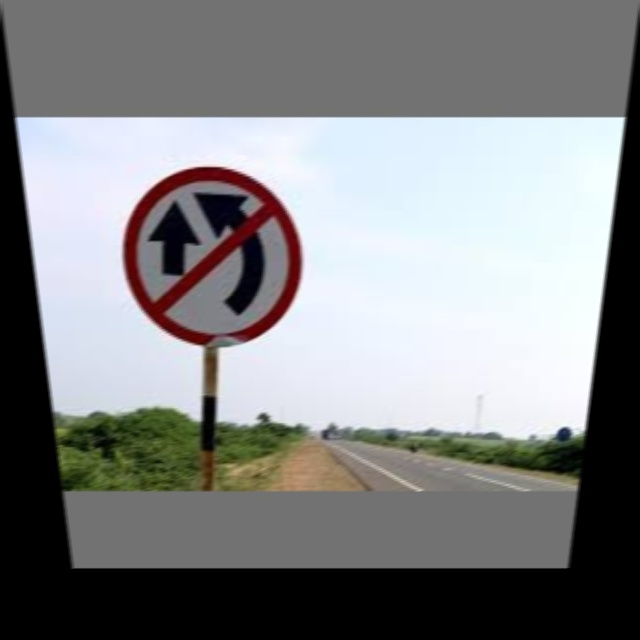Overtaking_Prohibited: (125, 168, 296, 341)
